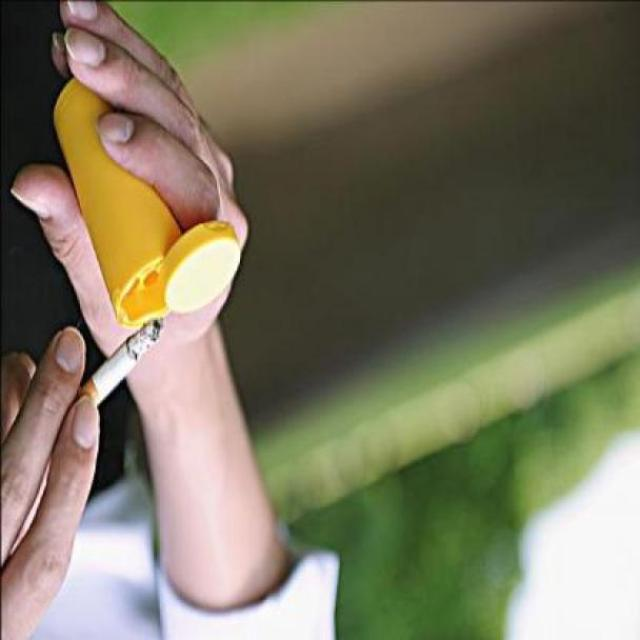rokok: (76, 318, 170, 412)
